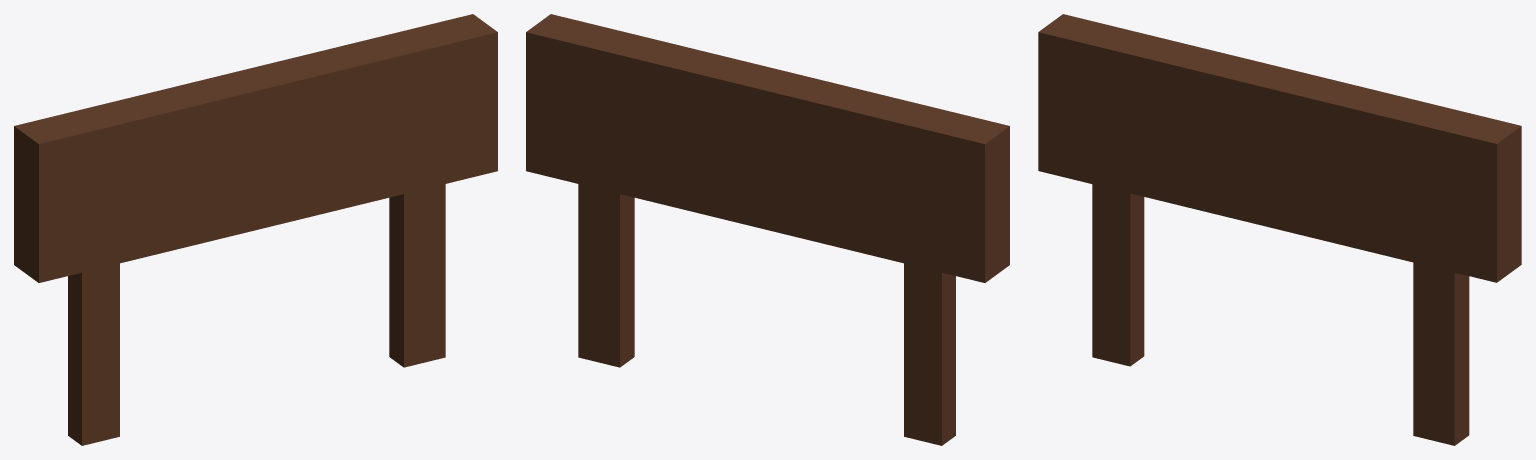
Rendered from Sella 1 + Poggio .fbx.
3 views of the same model, side by side, from view 1: azimuth 30°, elevation 25°; view 2: azimuth 150°, elevation 25°; view 3: azimuth 330°, elevation 25° (orthographic).
Visible parts, largest first — view 1: Trave.003; view 2: Trave.003; view 3: Trave.003.
Part boxes in pixels (x1,y1,x2,y2): Trave.003: [14, 14, 497, 445]; Trave.003: [526, 14, 1009, 445]; Trave.003: [1038, 14, 1521, 445].
Bounding box in the file's own units: 269 × 178 × 25.27.
